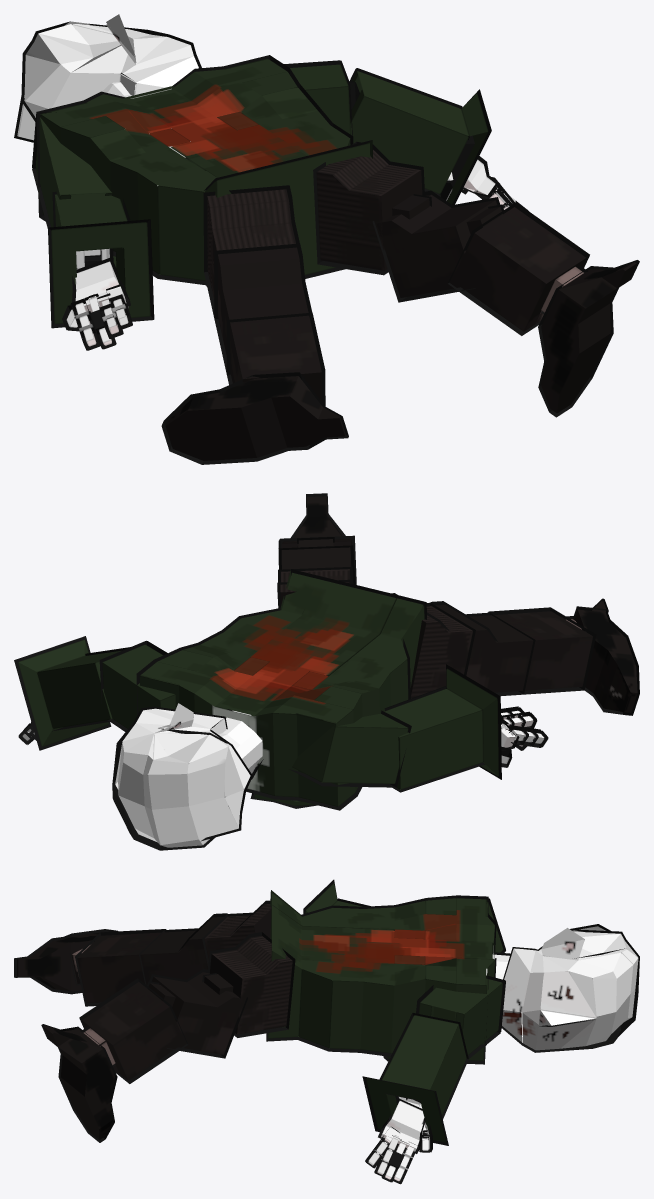
Rendered from Corpse.fbx.
3 renders of one model, top to bottom at view 1: azimuth 30°, elevation 25°; view 2: azimuth 150°, elevation 25°; view 3: azimuth 270°, elevation 25°, orthographic. The views are drawn at different scales.
Parts seen in each view (by area): view 1: cuboid, HEAD, cuboid_27, cuboid_3, cuboid_22, cuboid_20, cuboid_46, cuboid_23, cuboid_21, cuboid_25, cuboid_26, cuboid_24 (+16 smaller); view 2: cuboid, HEAD, cuboid_46, cuboid_3, shoulder_1, cuboid_26, cuboid_27, cuboid_25, cuboid_24, shoulder, HEAD_outline, cuboid_outline (+10 smaller); view 3: cuboid, HEAD, cuboid_3, cuboid_22, cuboid_20, cuboid_21, cuboid_23, cuboid_26, shoulder, cuboid_25, cuboid_27, cuboid_24 (+12 smaller).
Boxes of the visible parts, box(x1,y1,x2,y2) form: cuboid: box(40, 58, 370, 280); HEAD: box(17, 24, 198, 140); cuboid_27: box(165, 376, 345, 460); cuboid_3: box(350, 71, 488, 204); cuboid_22: box(452, 207, 585, 331); cuboid_20: box(316, 150, 429, 270); cuboid_46: box(51, 193, 150, 323); cuboid_23: box(541, 262, 636, 413); cuboid_21: box(376, 194, 502, 297); cuboid_25: box(217, 247, 309, 354); cuboid_26: box(230, 316, 321, 401); cuboid_24: box(207, 189, 295, 299); cuboid: box(139, 572, 424, 806); HEAD: box(115, 706, 250, 847); cuboid_46: box(384, 668, 498, 789); cuboid_3: box(18, 639, 121, 746); shoulder_1: box(292, 713, 408, 783); cuboid_26: box(491, 611, 592, 690); cuboid_27: box(574, 601, 637, 712); cuboid_25: box(435, 605, 532, 692); cuboid_24: box(410, 606, 472, 698); shoulder: box(102, 644, 177, 728); HEAD_outline: box(112, 703, 252, 850); cuboid_outline: box(136, 569, 426, 810); cuboid: box(268, 893, 494, 1060); HEAD: box(502, 926, 638, 1050); cuboid_3: box(366, 1015, 466, 1142); cuboid_22: box(82, 982, 184, 1080); cuboid_20: box(204, 935, 292, 1034); cuboid_21: box(148, 972, 244, 1054); cuboid_23: box(44, 1025, 114, 1139); cuboid_26: box(71, 932, 163, 1002); shoulder: box(419, 978, 502, 1054); cuboid_25: box(141, 916, 224, 984); cuboid_27: box(17, 932, 103, 991); cuboid_24: box(204, 904, 274, 960).
Size of the model in its own units: 341 by 126 by 444.
6 materials, 6 textured.
